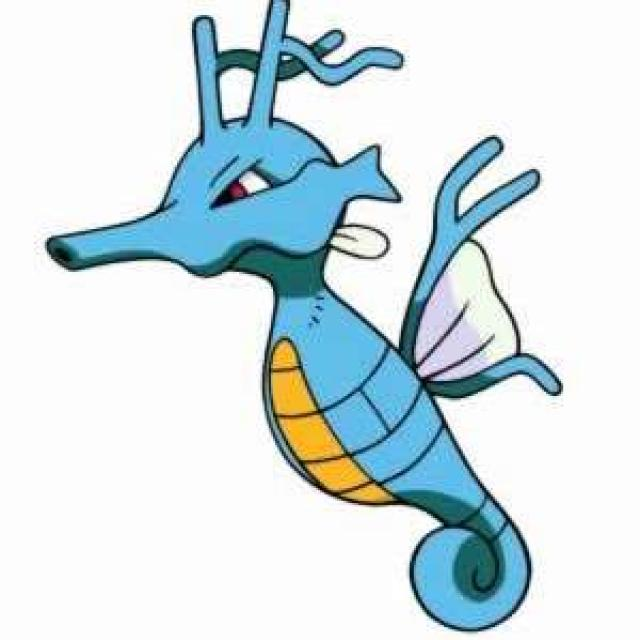Seadra: (46, 41, 537, 630)
